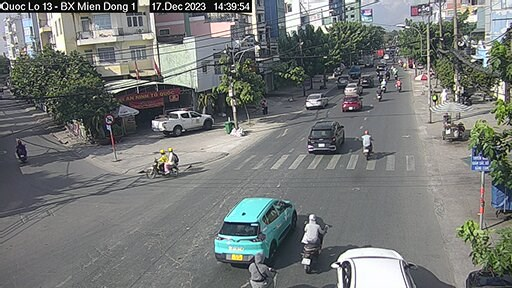car: (216, 192, 297, 264), (336, 242, 416, 288), (149, 109, 215, 137), (308, 117, 347, 159), (305, 91, 328, 110), (337, 99, 363, 114), (344, 83, 359, 96)
motorbike: (303, 213, 326, 266), (148, 150, 185, 180), (362, 130, 384, 166)
